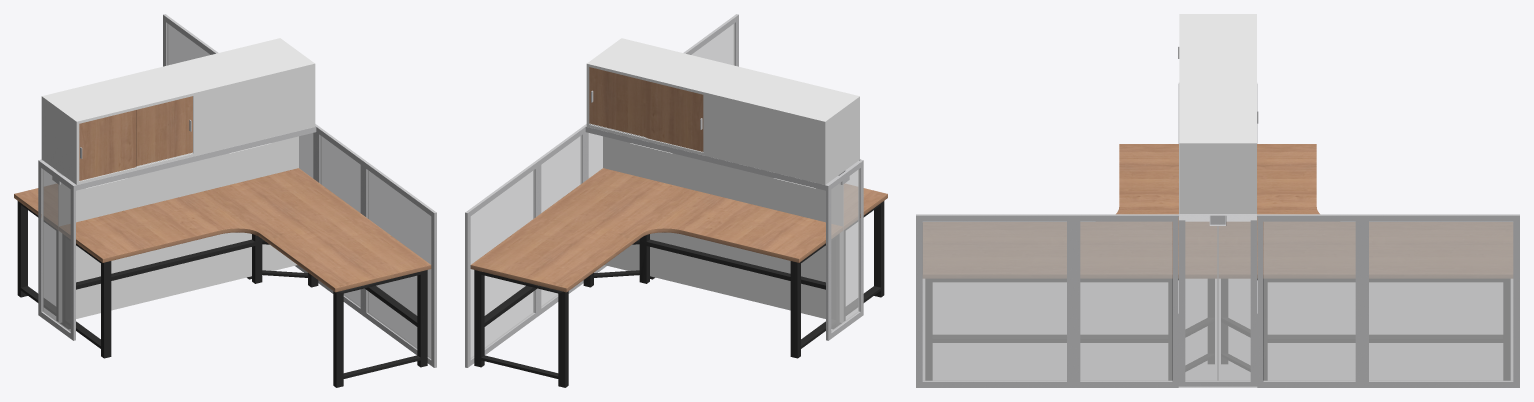
File: workstation-table.glb
The picture shows the model from 3 angles, left to right: view 1: azimuth 30°, elevation 25°; view 2: azimuth 150°, elevation 25°; view 3: azimuth 270°, elevation 25°; orthographic projection. The views are drawn at different scales.
Parts seen in each view (by area): view 1: partition, l-shape-desk2, l-shape-desk1; view 2: partition, l-shape-desk1, l-shape-desk2; view 3: partition, l-shape-desk1, l-shape-desk2.
Boxes of the visible parts, <box> form: partition: <box>38,14,436,367</box>; l-shape-desk2: <box>59,168,431,387</box>; l-shape-desk1: <box>14,184,251,323</box>; partition: <box>465,14,863,367</box>; l-shape-desk1: <box>470,168,842,387</box>; l-shape-desk2: <box>650,184,887,323</box>; partition: <box>916,14,1519,387</box>; l-shape-desk1: <box>1219,144,1512,380</box>; l-shape-desk2: <box>923,144,1216,380</box>.
Bounding box in the file's own units: 1.83 × 1.55 × 3.5.
5 materials, 2 textured.
